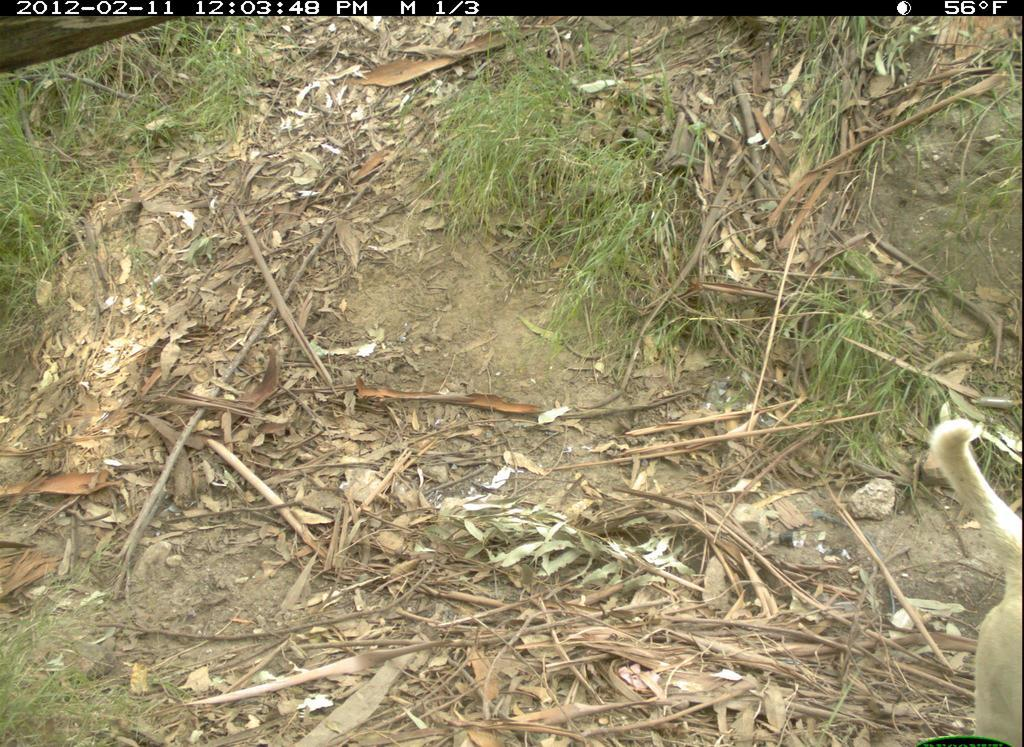dog: (872, 385, 1019, 744)
